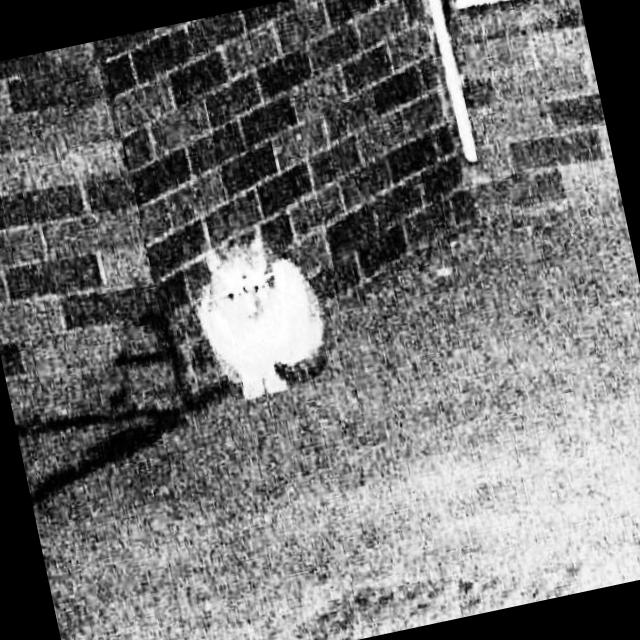Cat: (179, 205, 344, 418)
